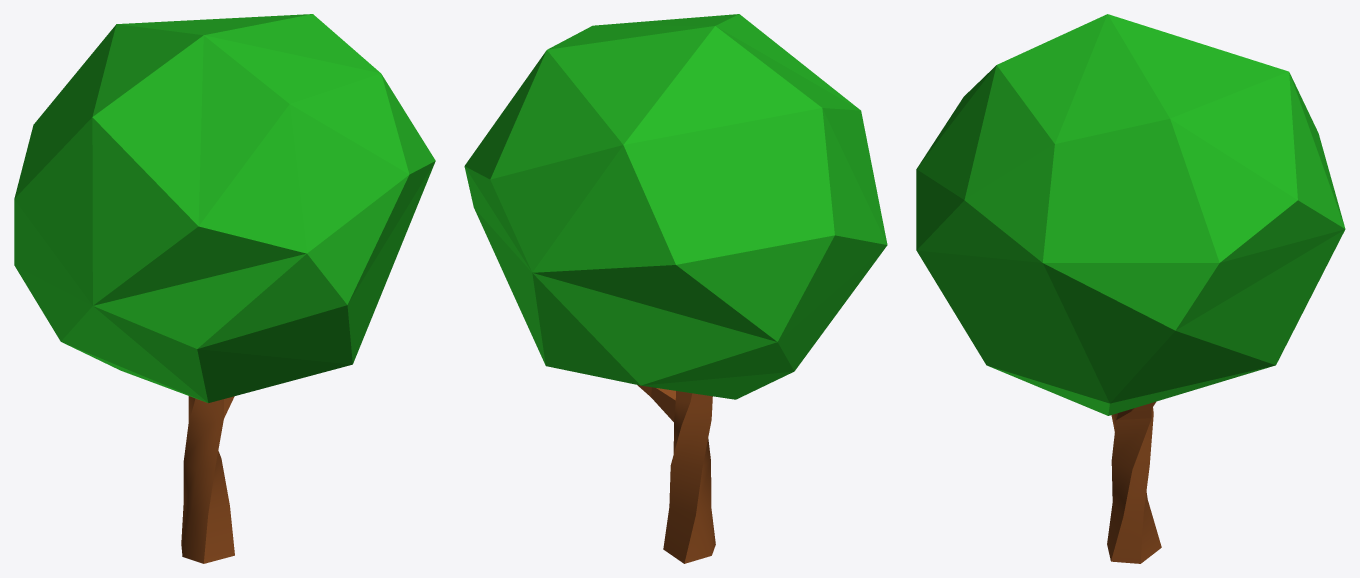
The model's file is Tree_normal.fbx.
The picture shows the model from 3 angles, left to right: view 1: azimuth 30°, elevation 25°; view 2: azimuth 150°, elevation 25°; view 3: azimuth 270°, elevation 25°; orthographic projection. The views are drawn at different scales.
Parts seen in each view (by area): view 1: GeoSphere001, Box001; view 2: GeoSphere001, Box001; view 3: GeoSphere001, Box001.
Part boxes in pixels (x1,y1,x2,y2): GeoSphere001: (14,14,435,402); Box001: (181,396,234,563); GeoSphere001: (464,14,887,399); Box001: (637,385,715,563); GeoSphere001: (916,14,1345,415); Box001: (1107,401,1161,563).
Bounding box in the file's own units: 372 × 512 × 374.
